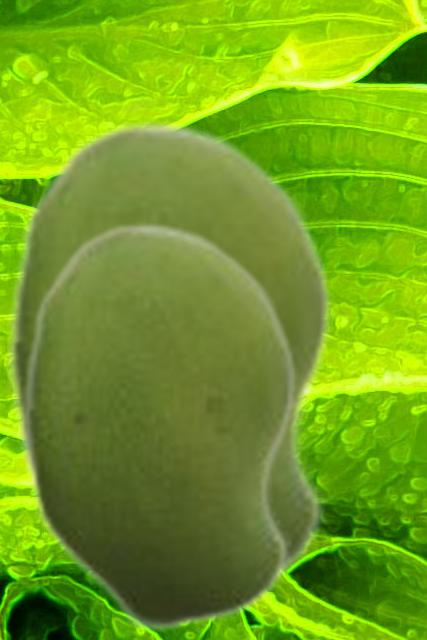green_mango: (7, 119, 333, 583), (22, 221, 297, 633)
